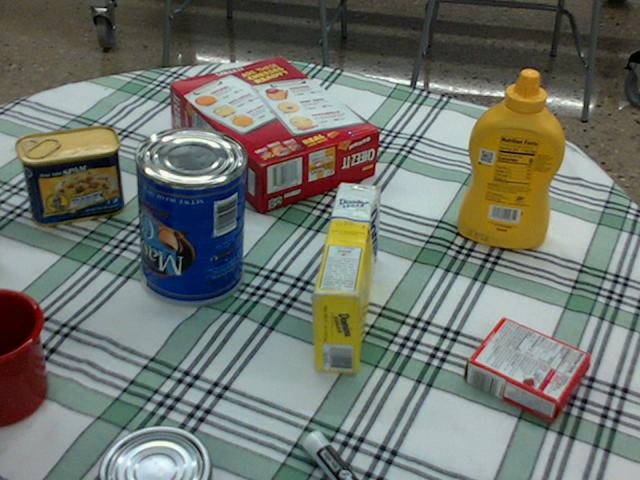cracker_box: (168, 58, 378, 208)
gelatin_box: (464, 318, 588, 423)
large_marker: (302, 431, 358, 479)
master_chef_can: (131, 126, 244, 306)
mug: (0, 284, 45, 422)
mustard_bottle: (456, 69, 564, 247)
potted_meat_can: (17, 126, 123, 226)
sugar_box: (311, 183, 377, 373)
tuna_fish_can: (95, 426, 209, 479)
